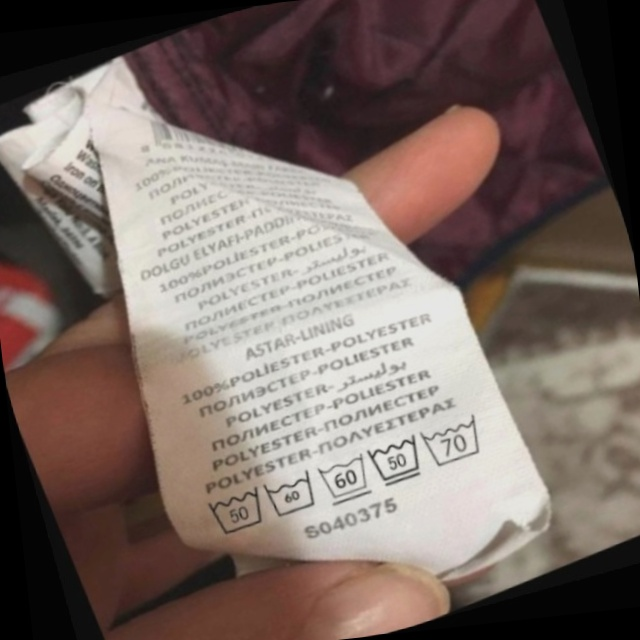50C: (195, 473, 279, 548), (359, 424, 436, 497)
60C: (310, 442, 384, 513), (256, 460, 330, 529)
70C: (414, 404, 498, 476)
